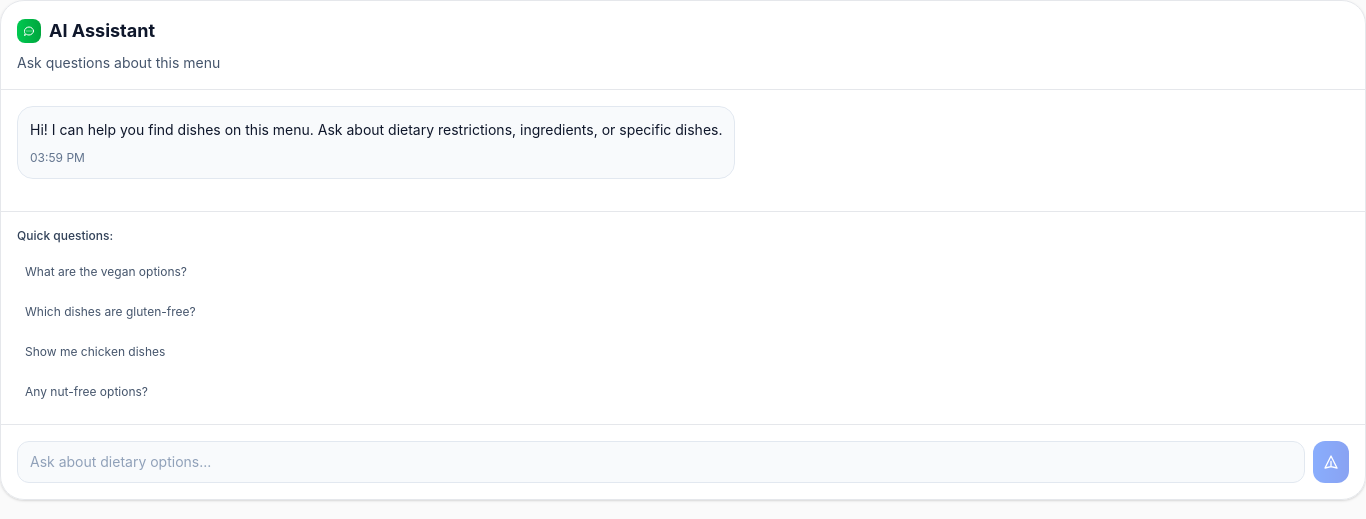
Test: ChatInterface › handles dietary restriction questions with realistic menu
The width and height of the screenshot is (1366, 519).
Type "Do you have any vegan or gluten-free options?" into the field with placeholder "Ask about dietary options...". click: [661, 462]
box: [17, 441, 1305, 483]
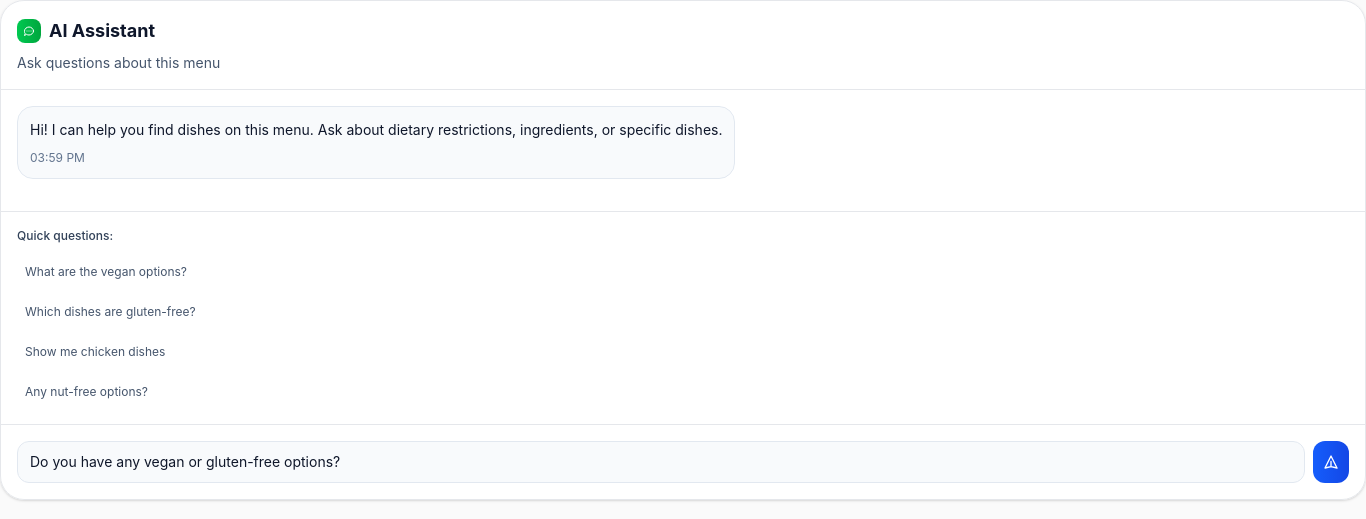
Click the 5th button. click: [1331, 462]
box: [1313, 441, 1349, 483]
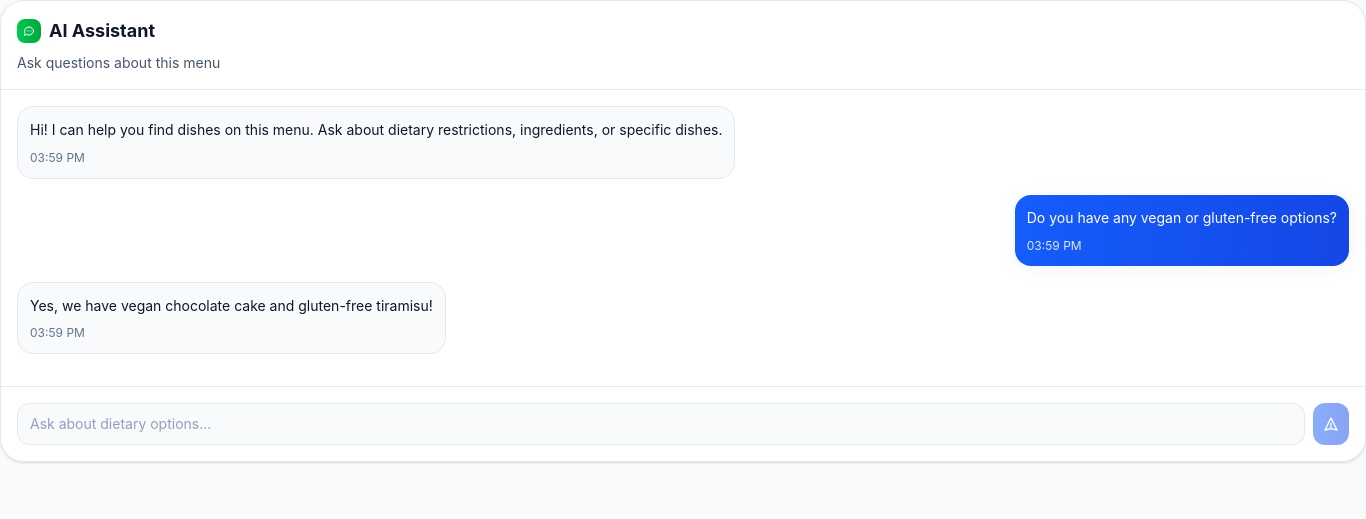
Now the text "Yes, we have vegan chocolate cake and gluten-free tiramisu!" is shown, box [30, 294, 433, 317]
